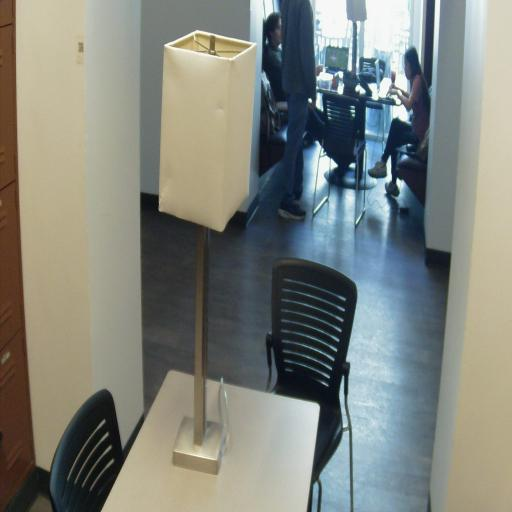lamp: (158, 30, 256, 472)
